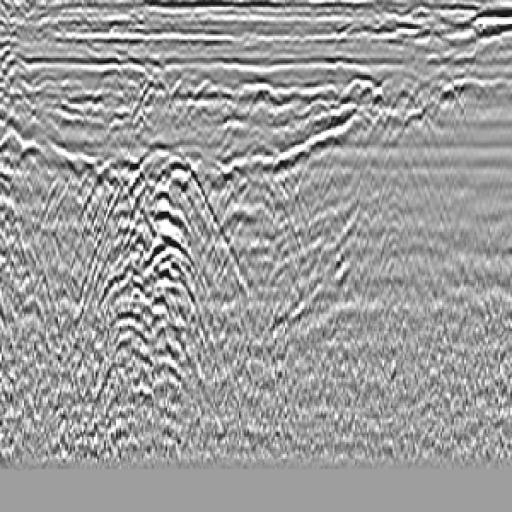metalic: (202, 65, 317, 258)
